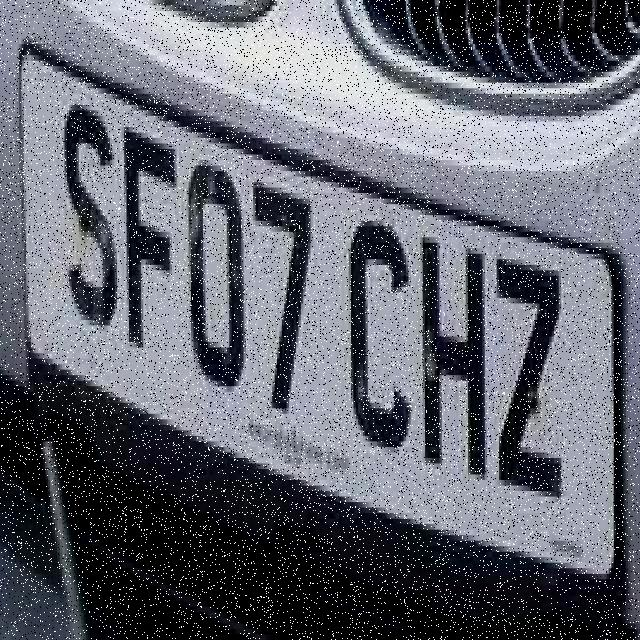licenseplate: (14, 38, 616, 582)
